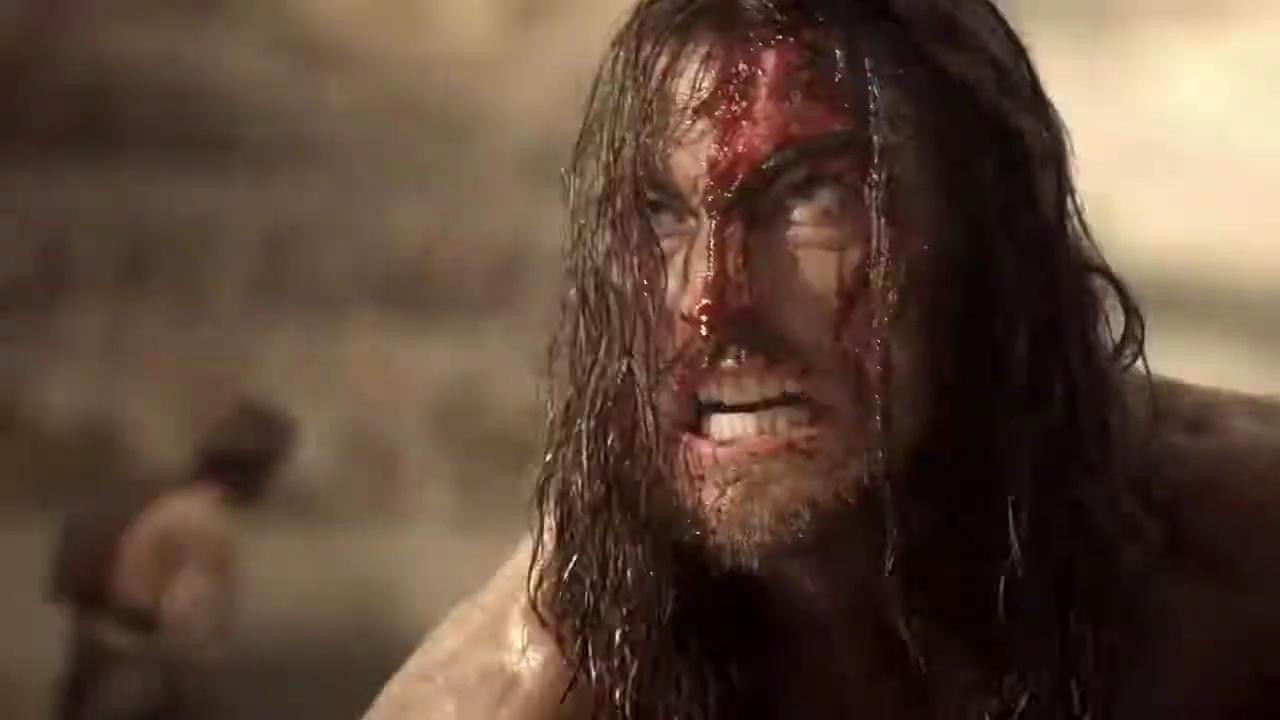Fire: (647, 36, 876, 410)
